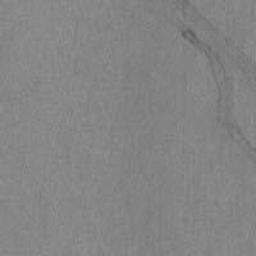Water spot: (163, 0, 256, 168)
